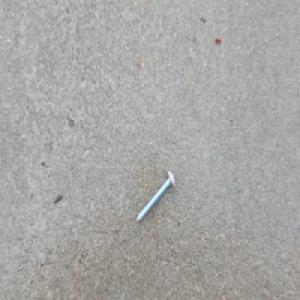Nail: (135, 169, 175, 223)
